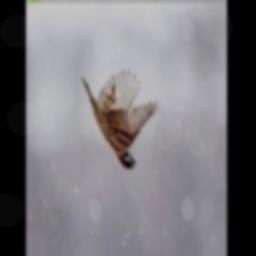Sparrow: (82, 70, 161, 170)
